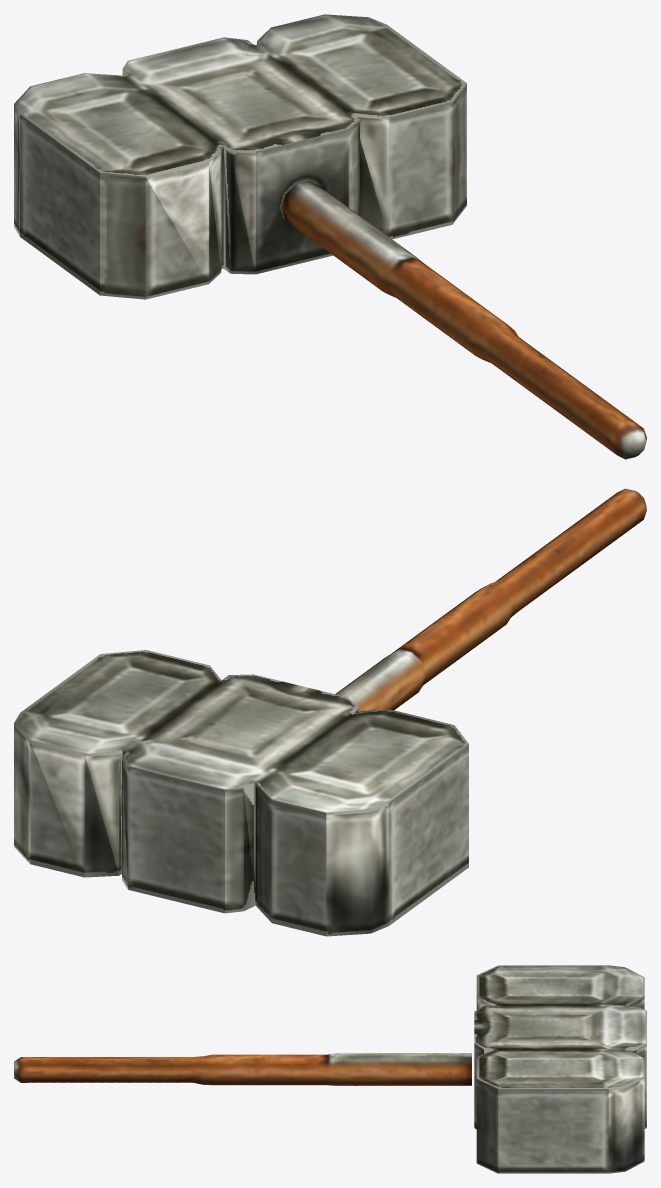
Rendered from item_mm9_10085.glb.
3 views of the same model, one above another, from view 1: azimuth 30°, elevation 25°; view 2: azimuth 150°, elevation 25°; view 3: azimuth 270°, elevation 25° (orthographic). The views are drawn at different scales.
Parts seen in each view (by area): view 1: d10085; view 2: d10085; view 3: d10085.
Boxes of the visible parts, x1,y1,x2,y2 form: d10085: (14, 14, 646, 459); d10085: (14, 488, 646, 936); d10085: (14, 965, 646, 1173).
Size of the model in its own units: 55.08 by 17.63 by 119.
Materials: 1 (1 with a texture image).
